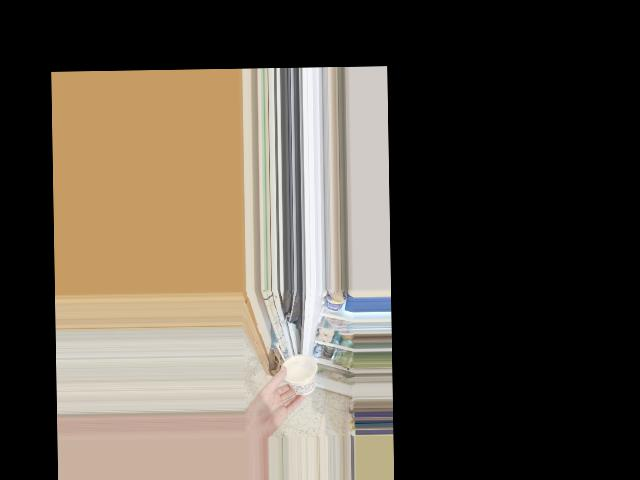cotage: (282, 356, 315, 396)
